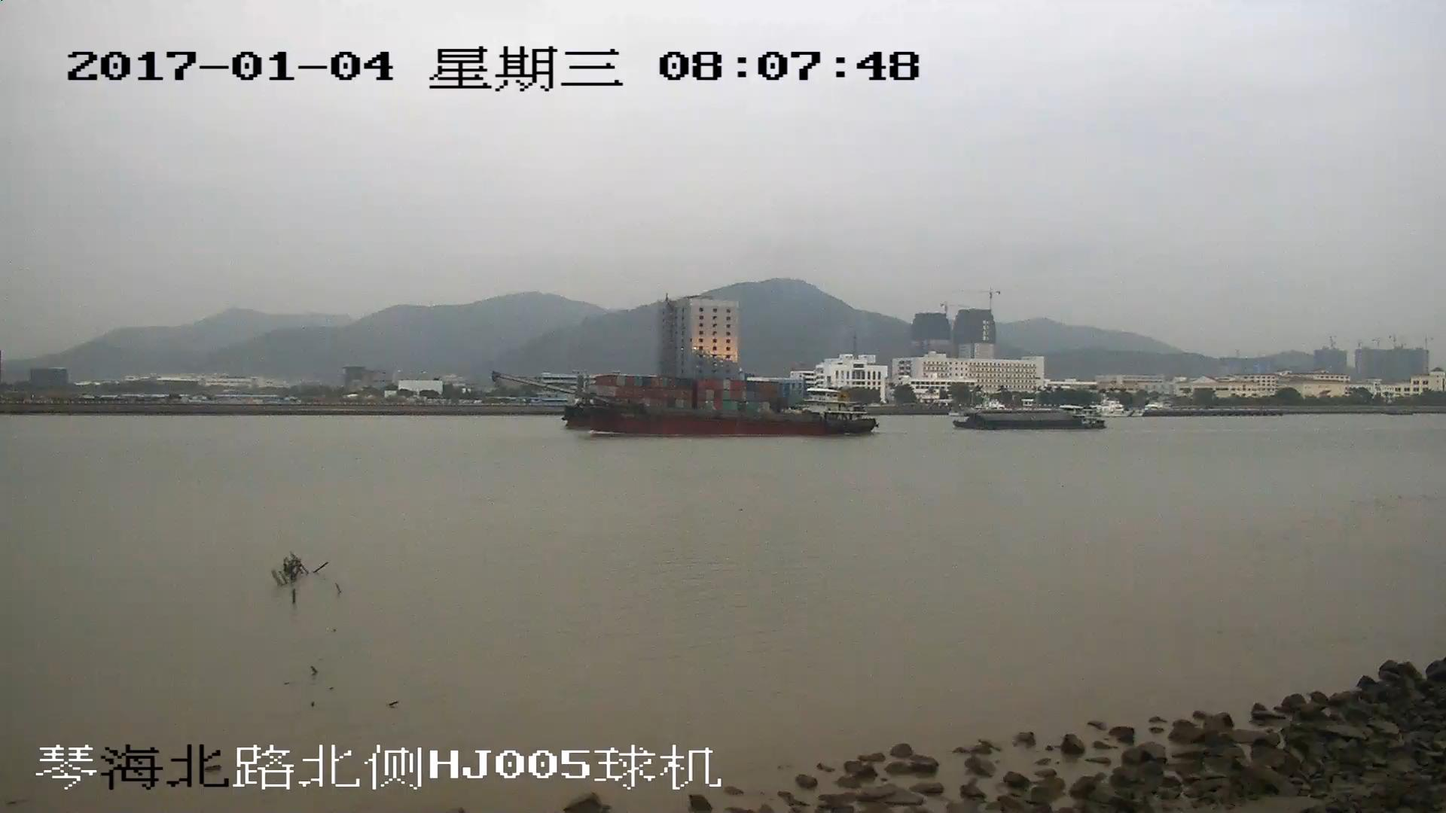bulk cargo carrier: (492, 374, 877, 434)
general cargo ship: (956, 410, 1103, 428)
